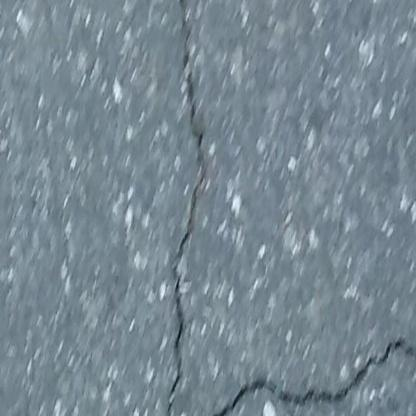Cracks: (165, 0, 209, 416), (189, 341, 416, 416)
